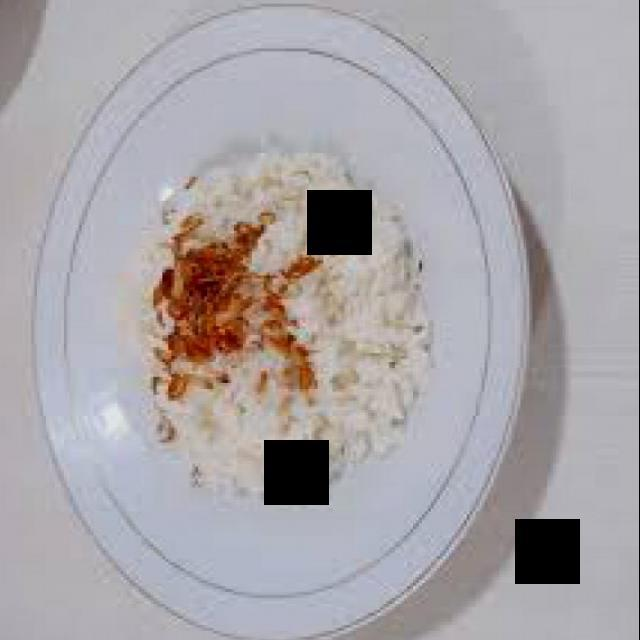rice: (133, 152, 436, 500)
